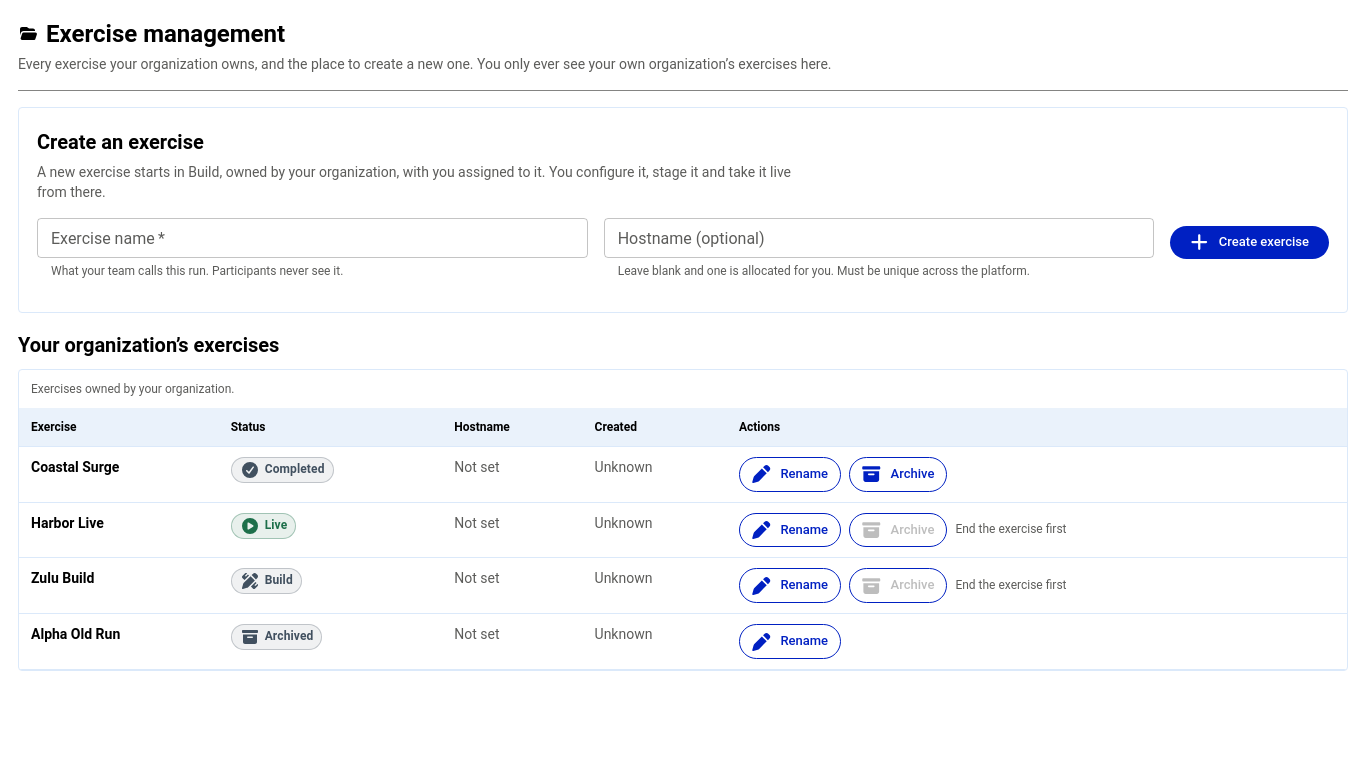
the Rename dialog › a 404 keeps the dialog open AND re-reads the org list (the row was stale)
The width and height of the screenshot is (1366, 768).
Expected: the table with test id "org-exercise-table" is shown, [19,370,1347,670]
Click the button "Rename" in the row of "Zulu Build": (790, 586) [739,568,841,603]
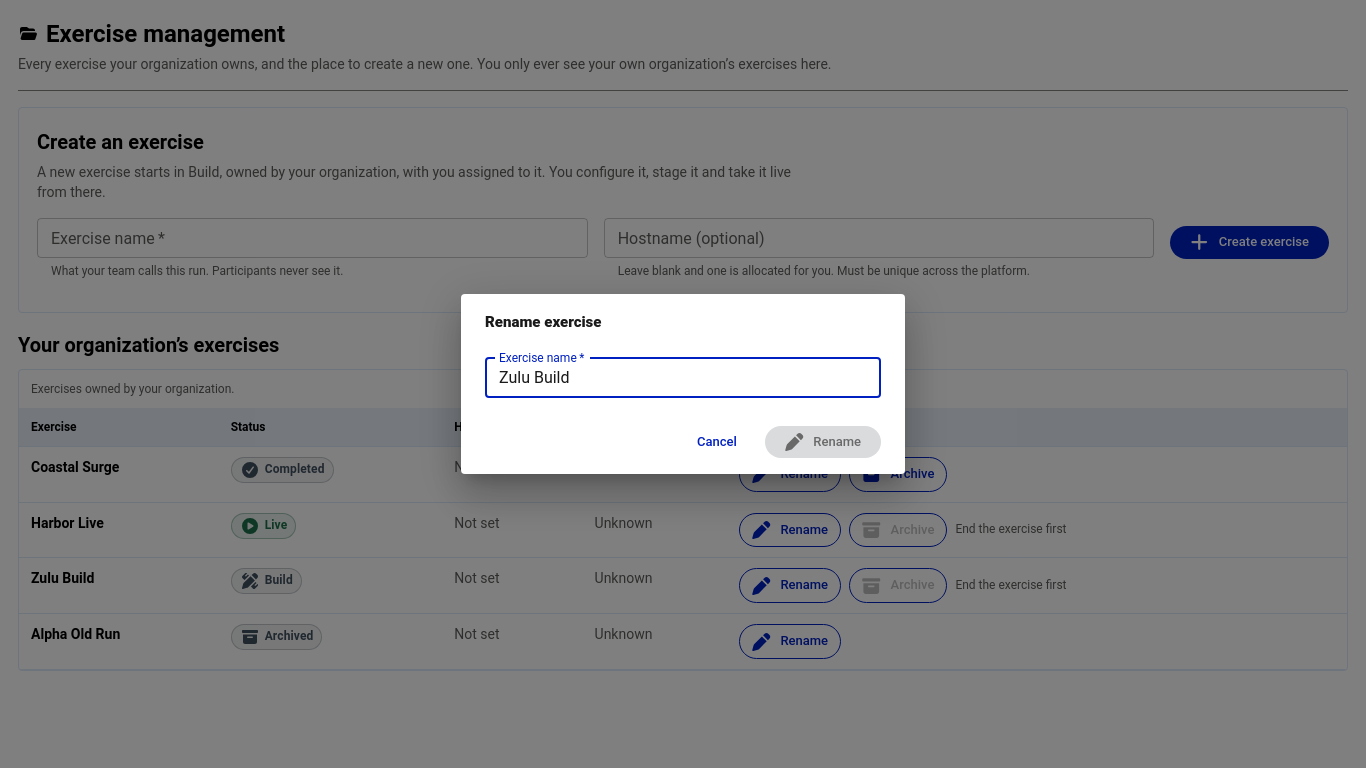
Replace the text in the field with test id "rename-exercise-input" with "Gone": (683, 378) [485,358,881,398]
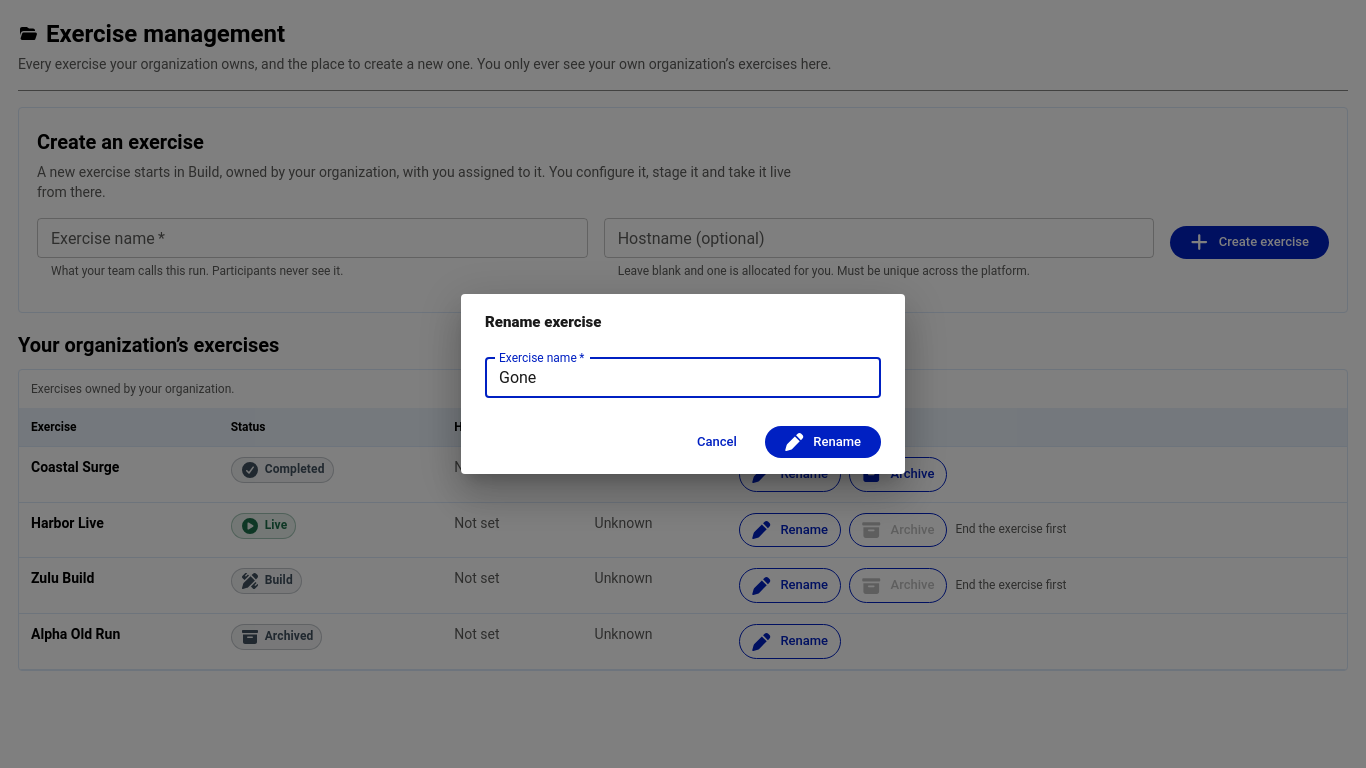
Click the button with test id "rename-exercise-confirm": (823, 442) [765,426,881,458]
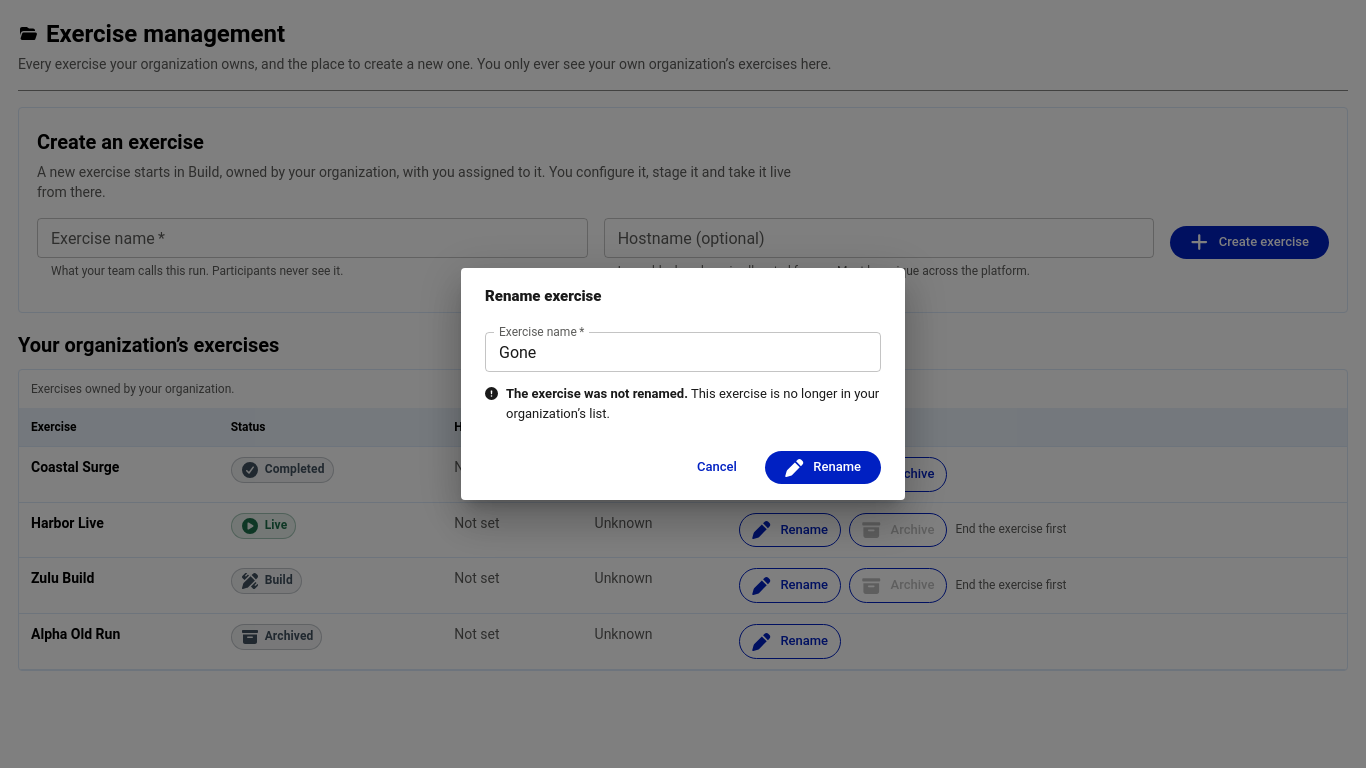
Expected: the message shows "no longer in your organization", [506,386,879,421]
